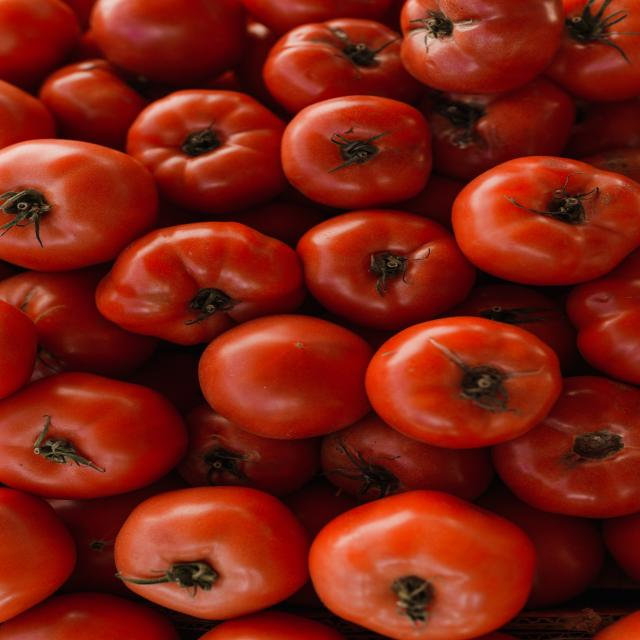Tomato: (346, 306, 570, 453), (299, 505, 541, 640), (451, 136, 640, 282), (81, 232, 302, 339), (277, 93, 451, 200)
